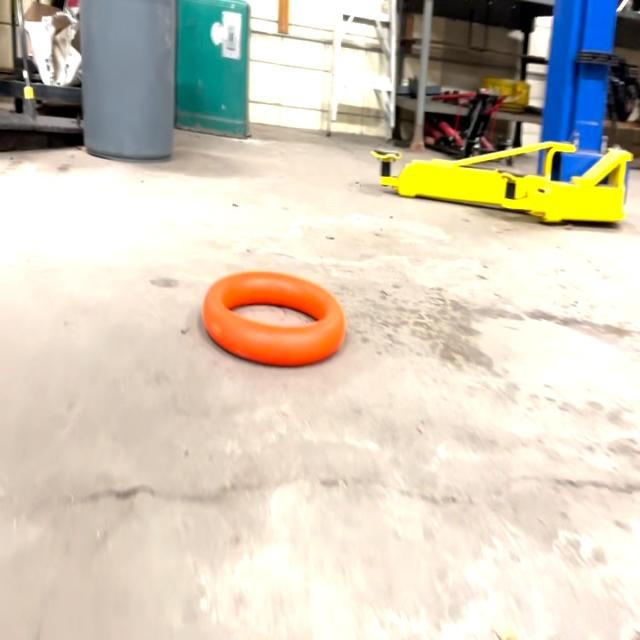note: (204, 268, 347, 368)
